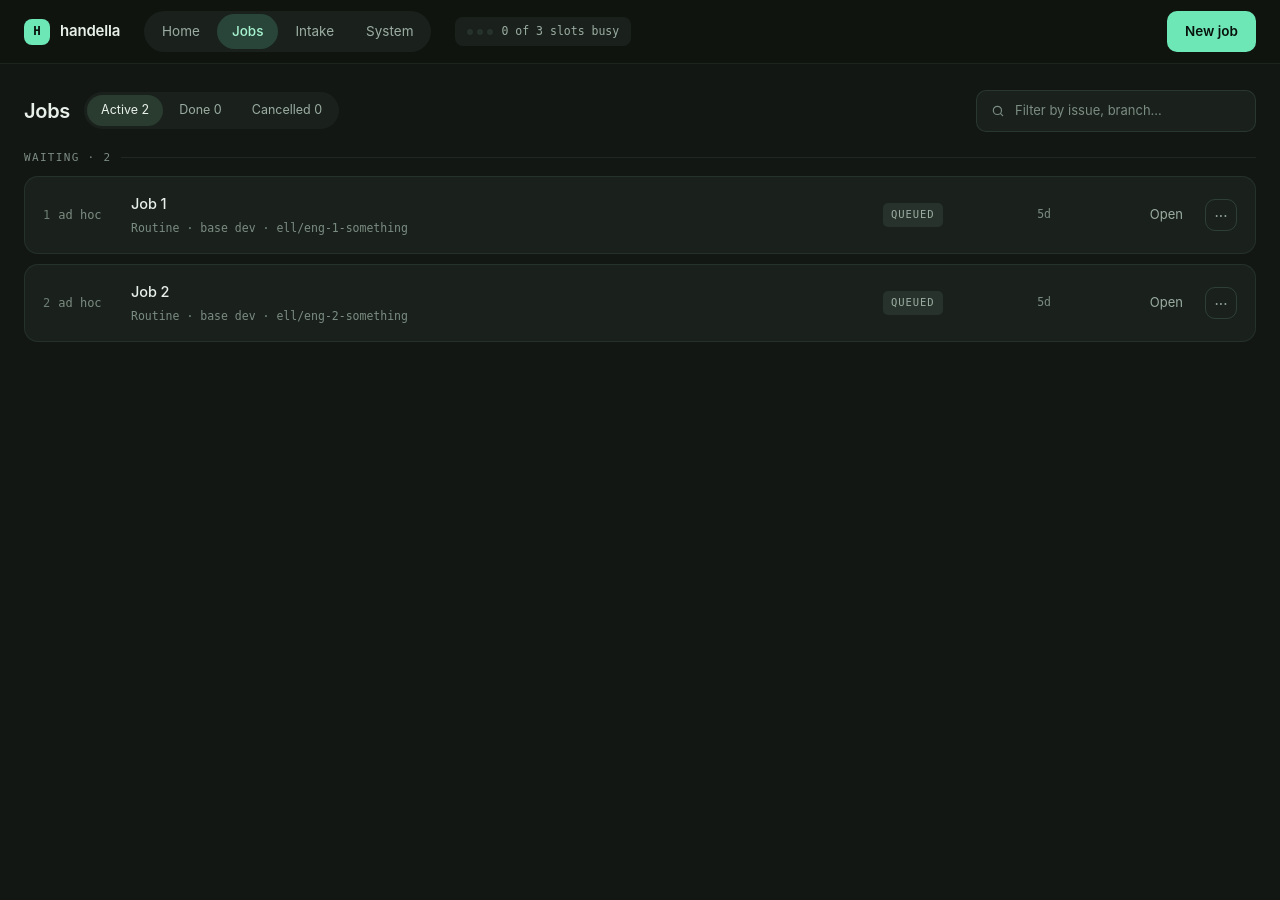
Scenario: the queue on the jobs list › cannot move the first job up or the last one down
Click the button "···" in the row of "· ell/eng-1-something".
click(1221, 215)  # box [1205,199,1237,231]
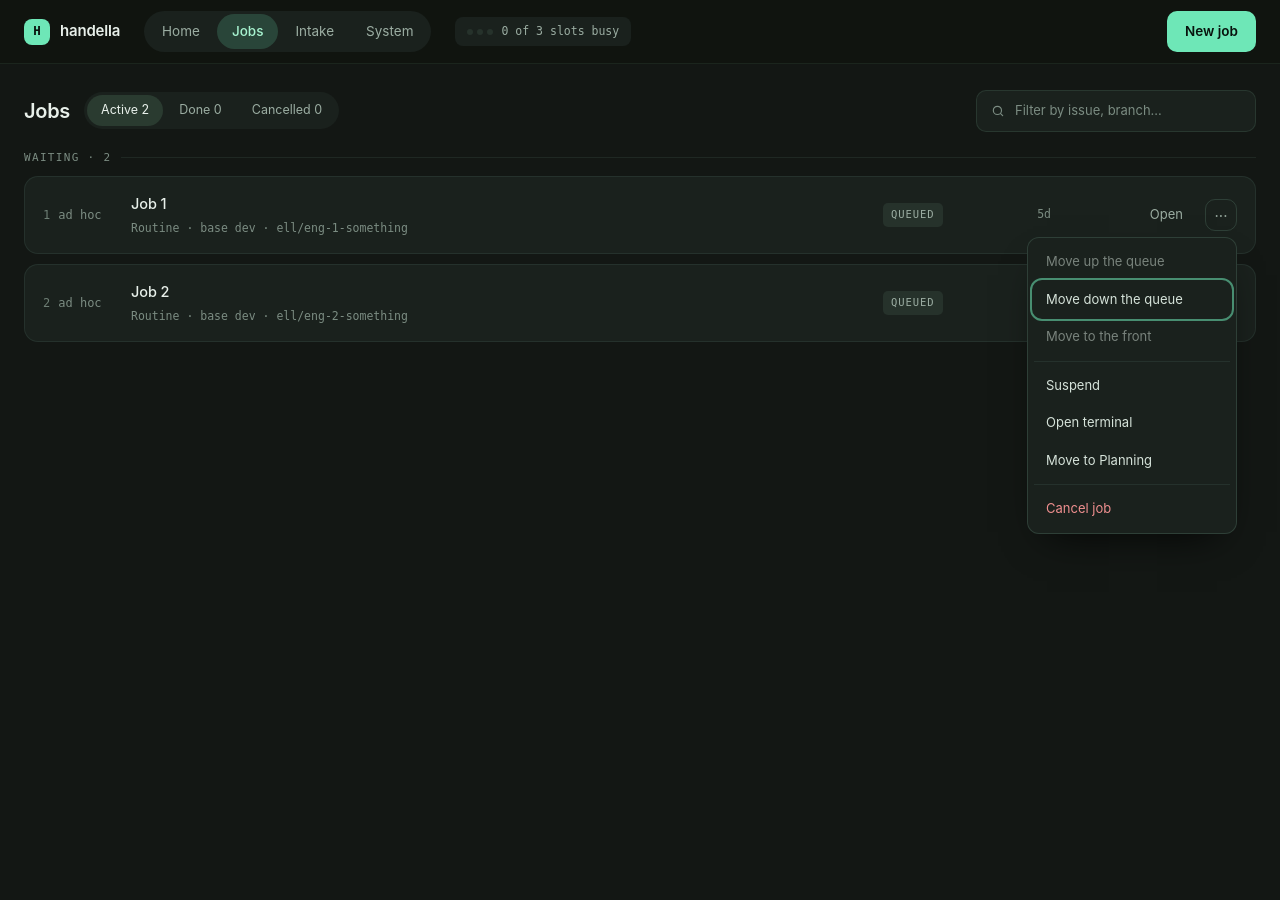
Expected: the menu item "Move up the queue" is disabled, [1034,244,1230,280]
Press Escape
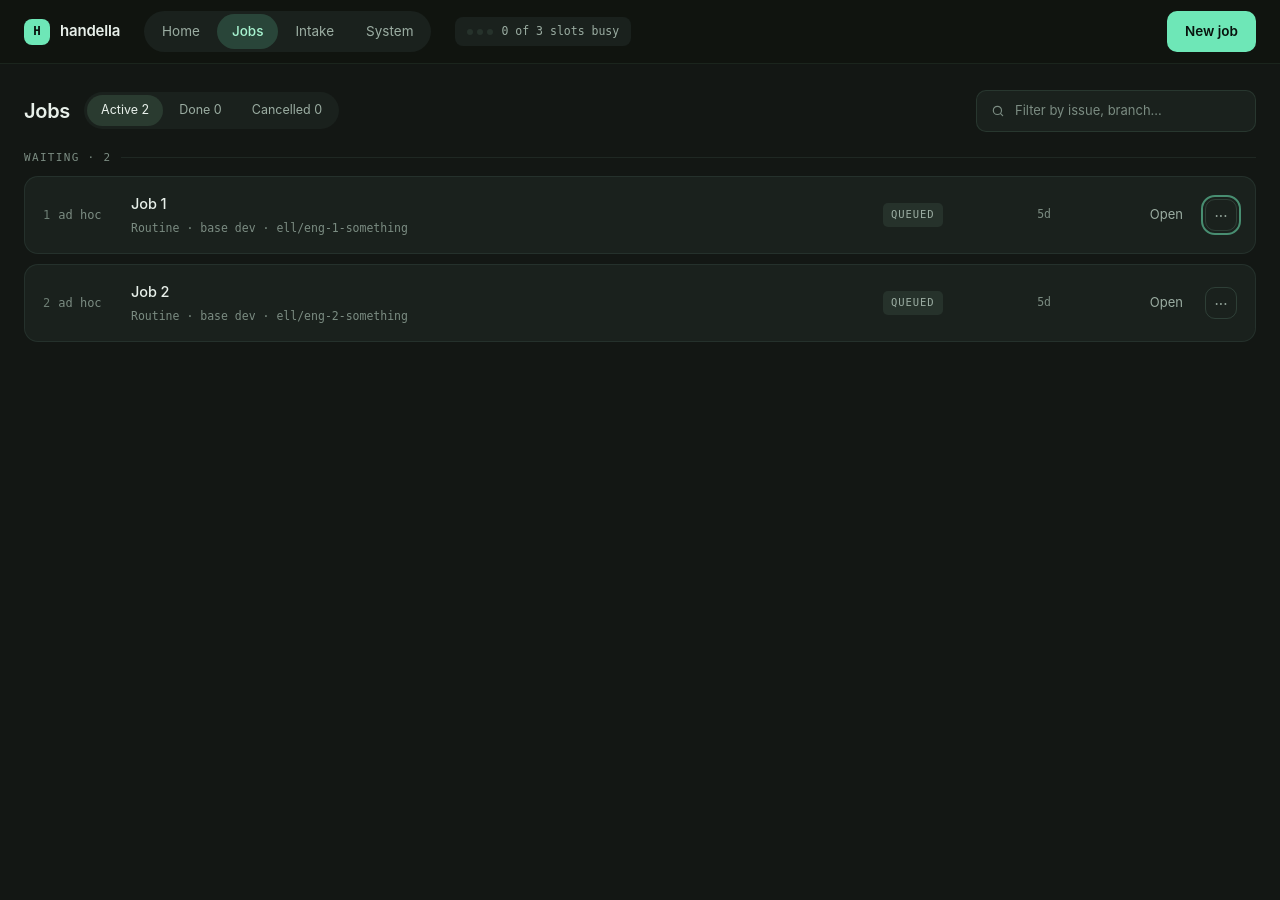
Click the button "···" in the row of "· ell/eng-2-something".
click(1221, 303)  # box [1205,287,1237,319]
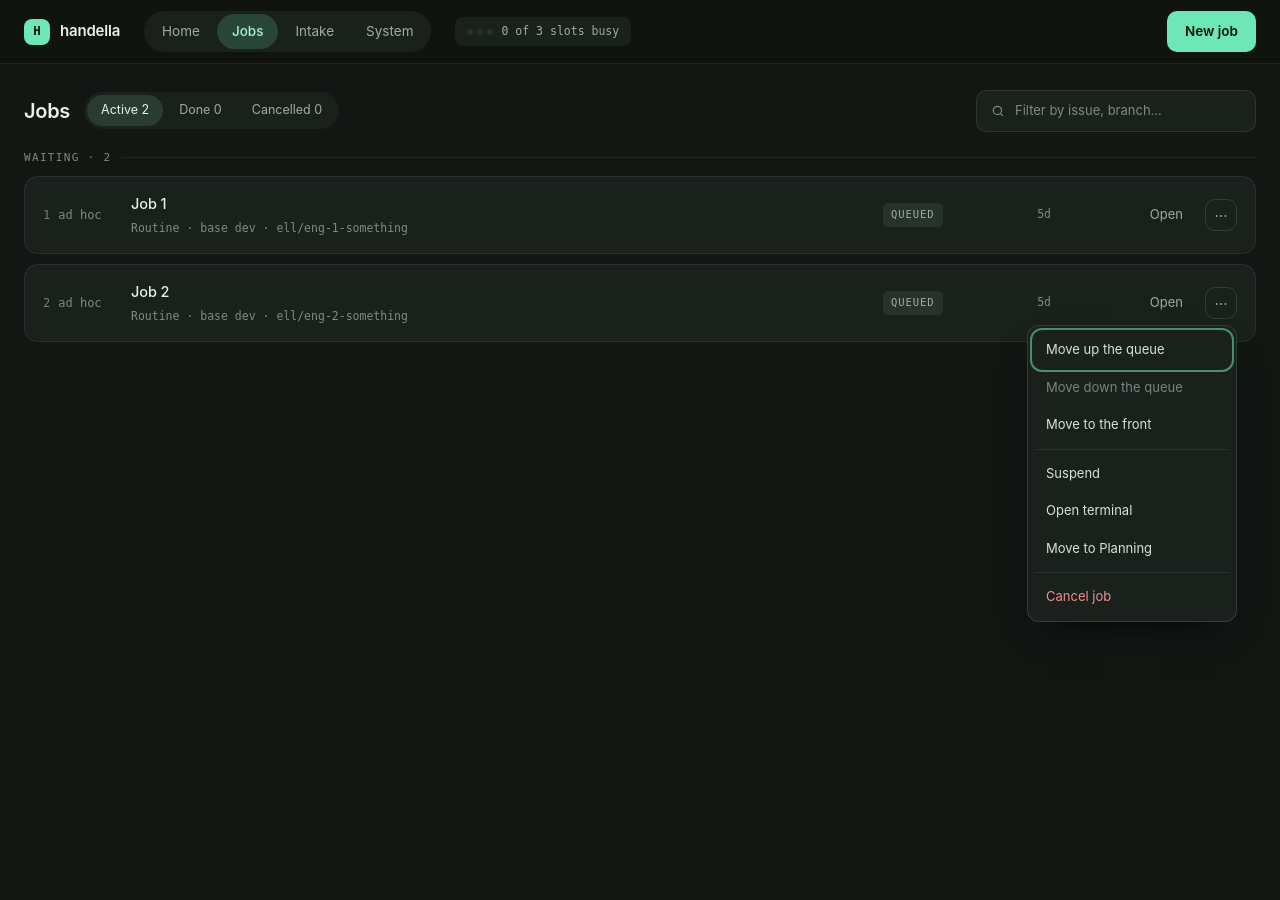
Expected: the menu item "Move down the queue" is disabled, [1034,370,1230,405]
